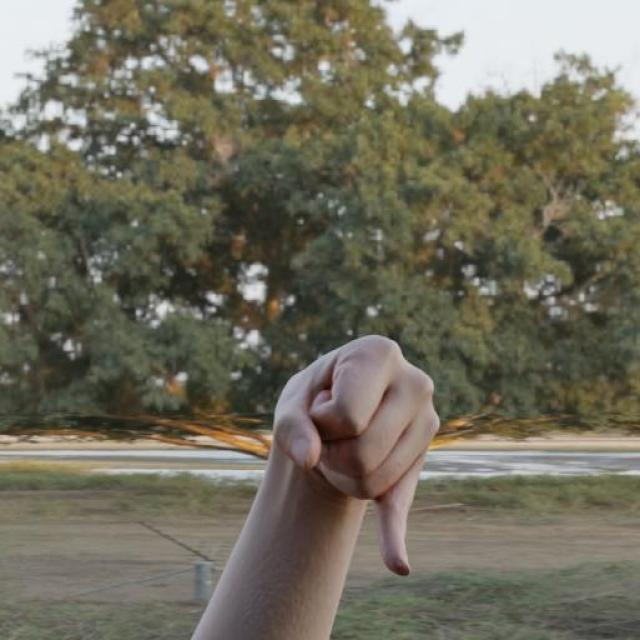J: (268, 332, 444, 582)
